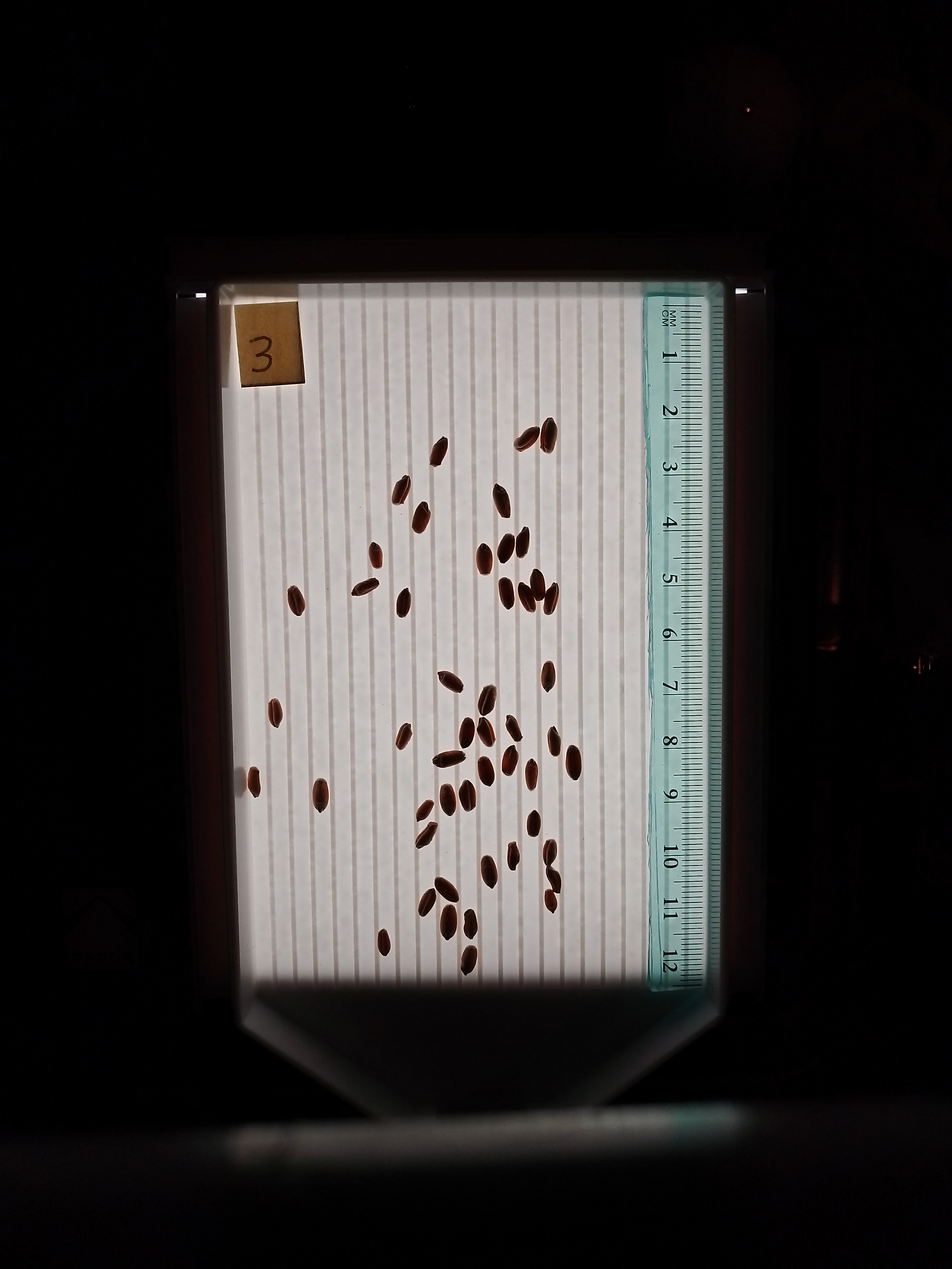seed mask: (539, 417, 558, 454), (514, 426, 539, 452), (312, 778, 331, 812), (412, 502, 431, 534), (391, 476, 411, 506), (493, 484, 511, 517), (440, 906, 457, 940), (433, 750, 465, 768), (429, 437, 448, 467), (416, 822, 437, 849), (480, 856, 498, 887), (435, 878, 458, 902), (459, 780, 476, 812), (566, 746, 582, 780), (478, 685, 496, 715), (439, 671, 463, 693), (478, 756, 495, 786), (502, 746, 519, 776), (288, 586, 305, 615), (518, 584, 535, 613), (476, 545, 492, 575), (461, 946, 477, 976), (440, 785, 456, 815), (499, 578, 514, 610), (352, 578, 378, 596), (418, 889, 435, 916), (478, 719, 495, 746), (460, 718, 475, 748), (544, 584, 559, 614), (498, 535, 514, 563), (525, 759, 539, 791), (532, 569, 546, 601), (395, 723, 412, 749), (541, 662, 556, 691), (268, 699, 283, 727), (247, 767, 261, 797), (396, 589, 411, 617), (517, 527, 530, 557), (369, 542, 383, 569), (548, 727, 561, 756), (506, 715, 521, 740), (417, 800, 434, 822), (377, 930, 391, 956), (507, 843, 520, 870), (527, 812, 541, 837), (543, 840, 557, 865), (464, 911, 477, 937), (547, 868, 561, 892), (544, 890, 557, 912)
